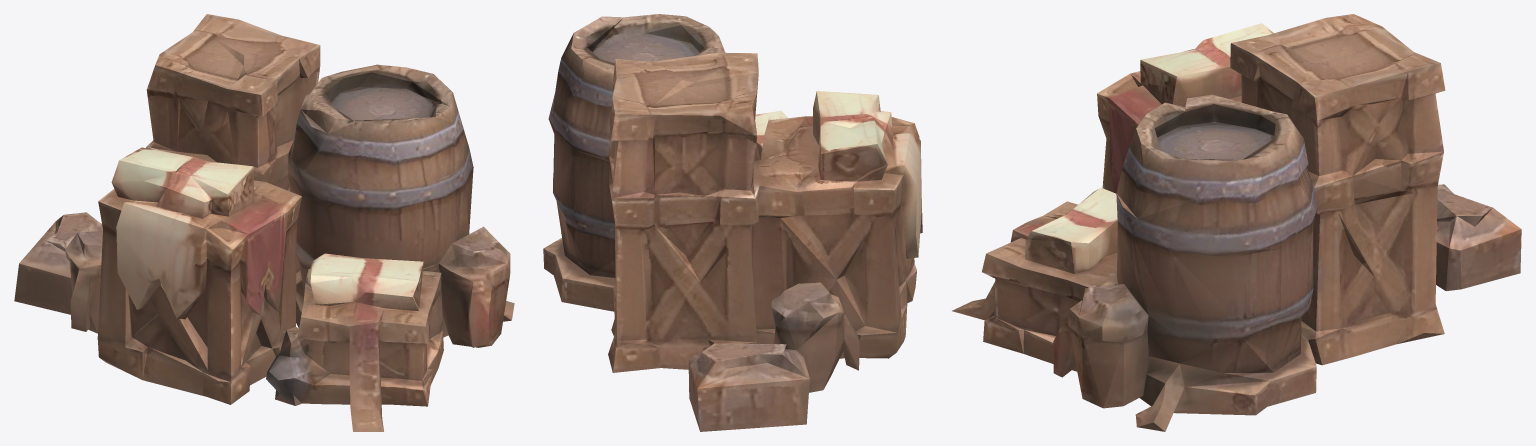
Rendered from hub_crates.glb.
The picture shows the model from 3 angles, left to right: view 1: azimuth 30°, elevation 25°; view 2: azimuth 150°, elevation 25°; view 3: azimuth 270°, elevation 25°; orthographic projection. The views are drawn at different scales.
Visible parts, largest first — view 1: body; view 2: body; view 3: body.
Boxes of the visible parts, bbox=[...] form: body: bbox=[14, 14, 514, 431]; body: bbox=[543, 14, 922, 431]; body: bbox=[952, 14, 1521, 431].
Size of the model in its own units: 1.89 by 1.23 by 2.3.
Materials: 1 (1 with a texture image).
